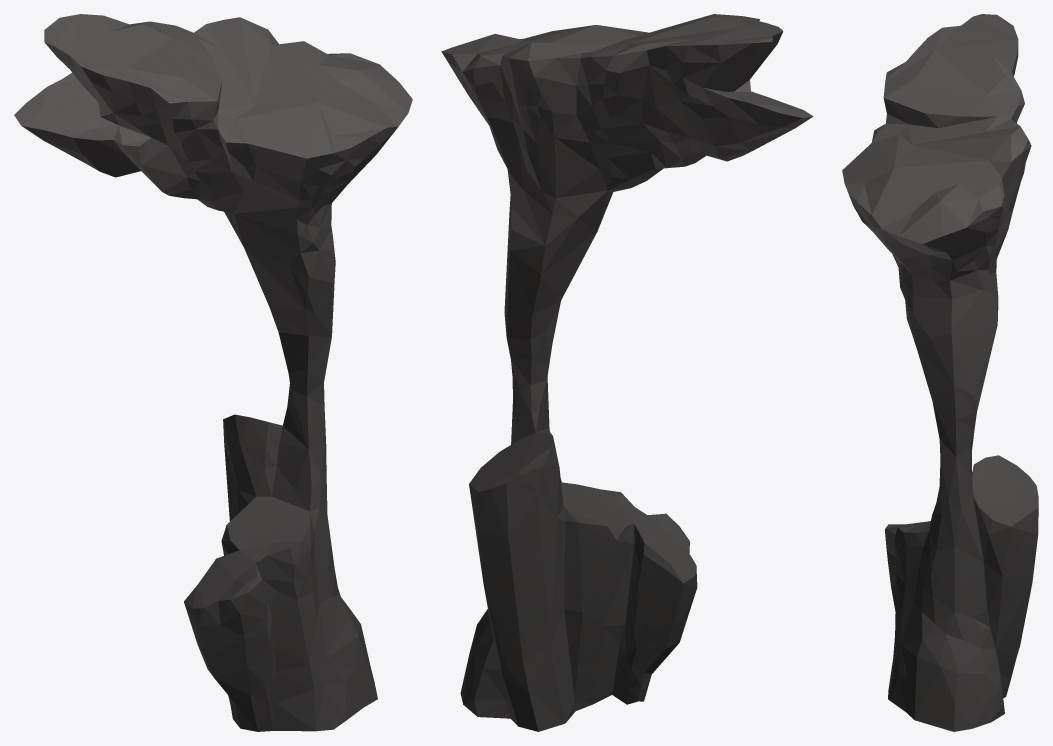
File: ZLP_Rock_D_2.FBX
The picture shows the model from 3 angles, left to right: view 1: azimuth 30°, elevation 25°; view 2: azimuth 150°, elevation 25°; view 3: azimuth 270°, elevation 25°; orthographic projection. The views are drawn at different scales.
Parts seen in each view (by area): view 1: ZLP_Rock_D_2; view 2: ZLP_Rock_D_2; view 3: ZLP_Rock_D_2.
Part boxes in pixels (<box>): ZLP_Rock_D_2: <box>14,14,412,731</box>; ZLP_Rock_D_2: <box>441,14,813,731</box>; ZLP_Rock_D_2: <box>842,14,1038,731</box>.
Size of the model in its own units: 522 by 968 by 291.
